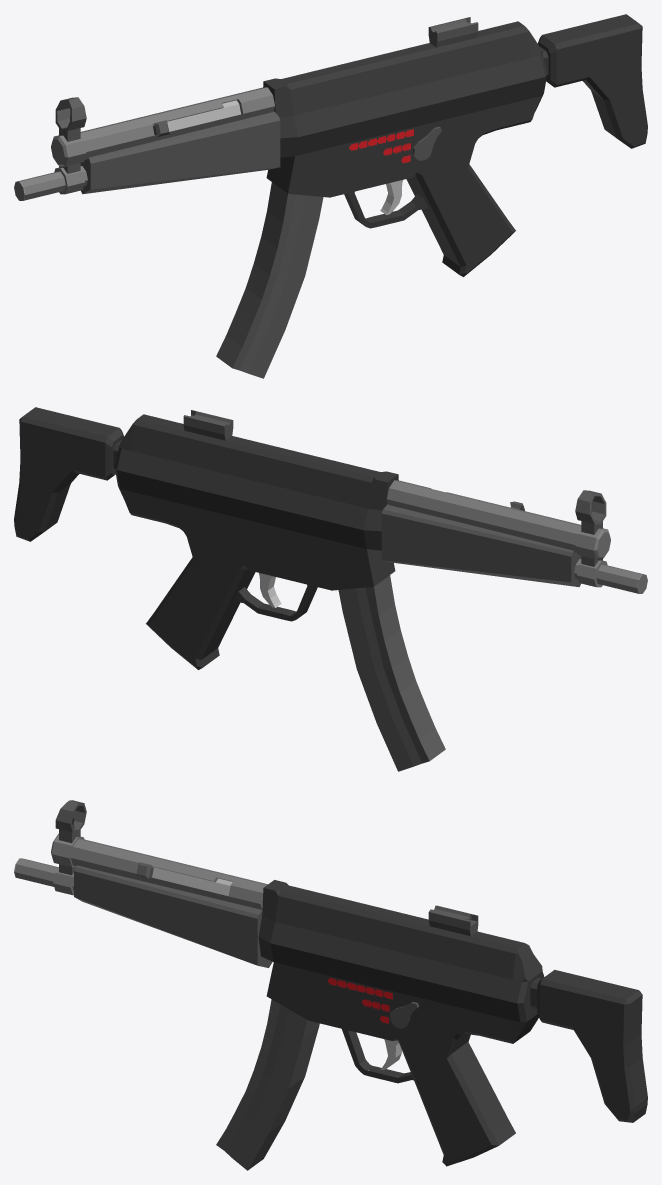
The picture shows the model from 3 angles, top to bottom: view 1: azimuth 30°, elevation 25°; view 2: azimuth 150°, elevation 25°; view 3: azimuth 330°, elevation 25°; orthographic projection.
Visible parts, largest first — view 1: mp5; view 2: mp5; view 3: mp5.
Part boxes in pixels (x1=…): mp5: x1=14, y1=14, x2=647, y2=378; mp5: x1=14, y1=407, x2=647, y2=771; mp5: x1=14, y1=800, x2=647, y2=1170.
Bounding box in the file's own units: 730 × 357 × 56.71.
1 material, 1 textured.
